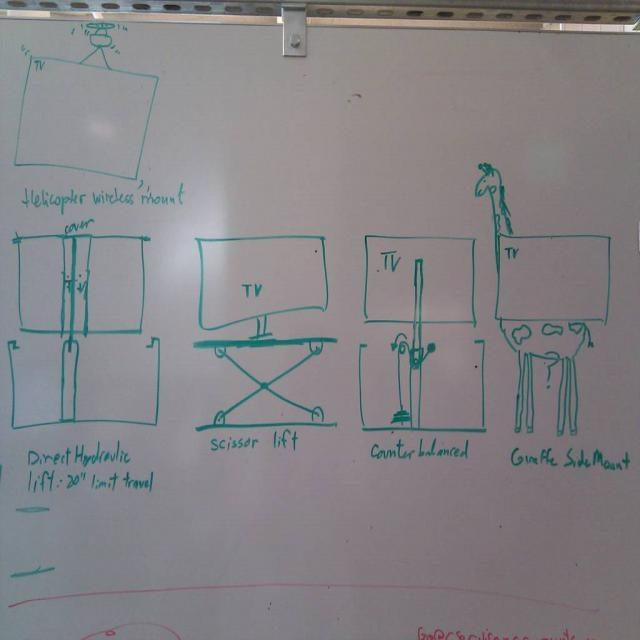Whiteboard: (0, 10, 639, 639)
